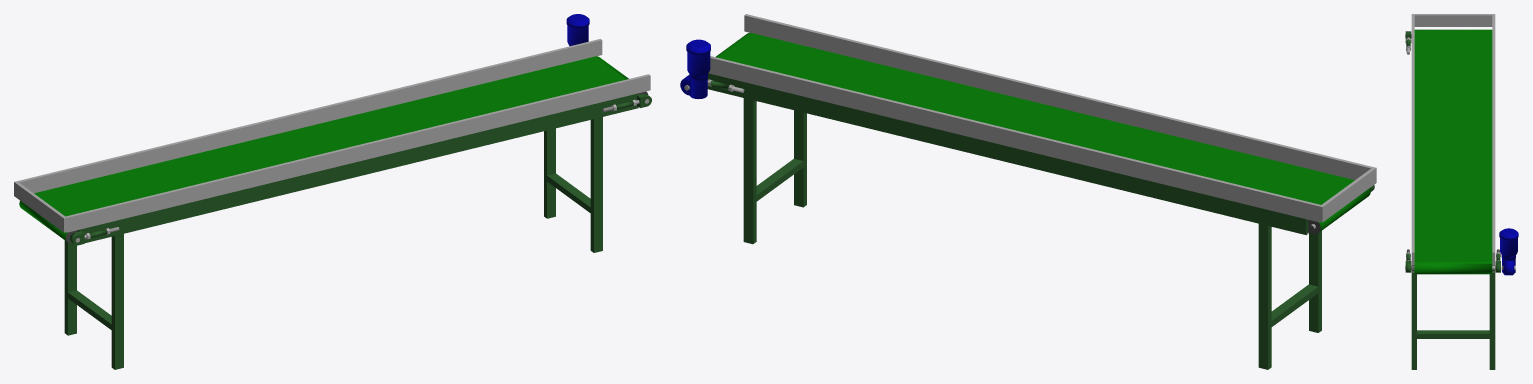
The model's file is conveyor2.dae.
The picture shows the model from 3 angles, left to right: view 1: azimuth 30°, elevation 25°; view 2: azimuth 150°, elevation 25°; view 3: azimuth 270°, elevation 25°; orthographic projection. The views are drawn at different scales.
Visible parts, largest first — view 1: mesh3_001; view 2: mesh3_001; view 3: mesh3_001.
Boxes of the visible parts, box(x1,y1,x2,y2) form: mesh3_001: box(14, 14, 651, 369); mesh3_001: box(680, 14, 1376, 369); mesh3_001: box(1405, 14, 1518, 369).
Size of the model in its own units: 3.3 by 0.66 by 0.98.
